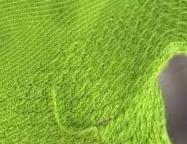snag: (48, 84, 100, 137)
